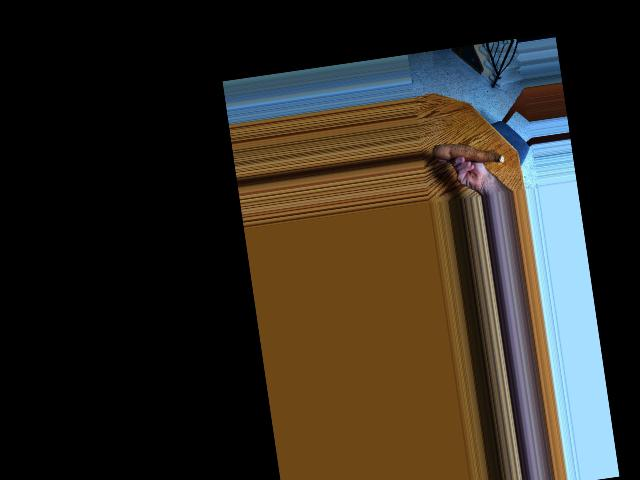sweet_potato: (431, 134, 505, 174)
